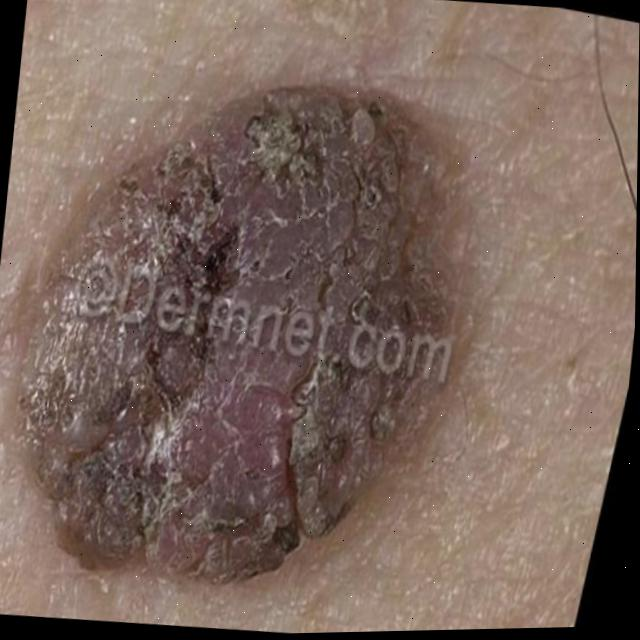Eczema: (75, 119, 393, 539)
